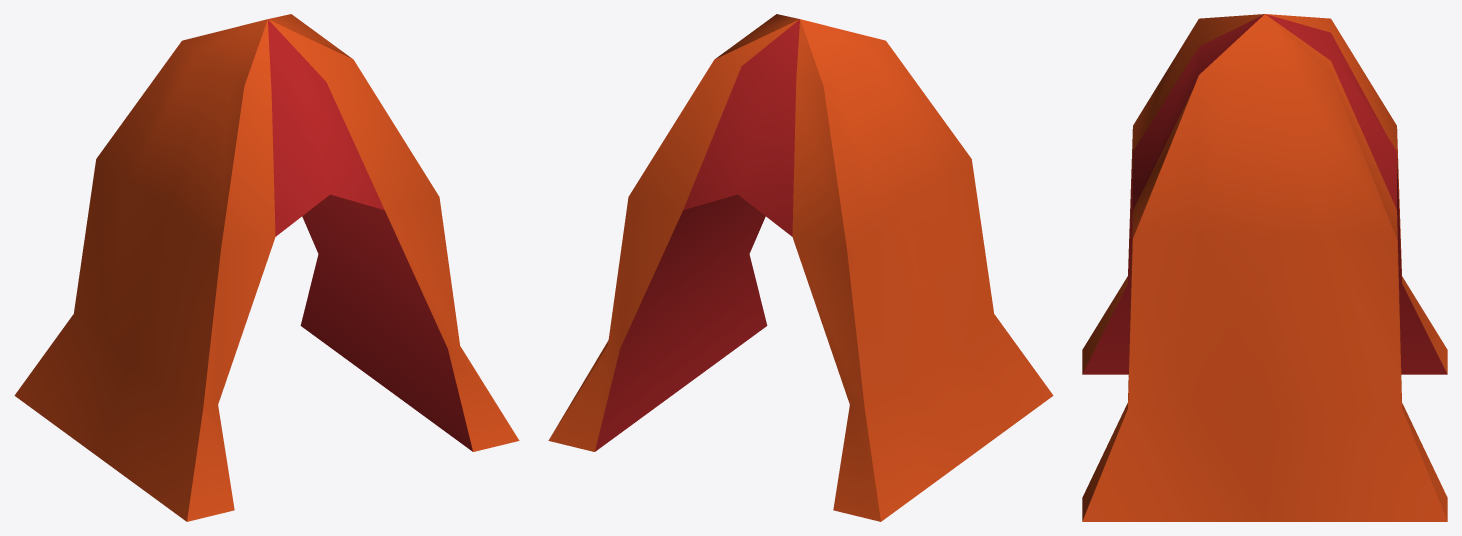
Rendered from Tunnel 6.fbx.
3 views of the same model, side by side, from view 1: azimuth 30°, elevation 25°; view 2: azimuth 150°, elevation 25°; view 3: azimuth 270°, elevation 25° (orthographic). The views are drawn at different scales.
Parts seen in each view (by area): view 1: Tunnel 6; view 2: Tunnel 6; view 3: Tunnel 6.
Part boxes in pixels (x1,y1,x2,y2): Tunnel 6: [14, 14, 519, 521]; Tunnel 6: [548, 14, 1053, 521]; Tunnel 6: [1082, 14, 1447, 521].
Bounding box in the file's own units: 20.41 × 23.4 × 18.35.
Materials: 2 (2 with a texture image).
